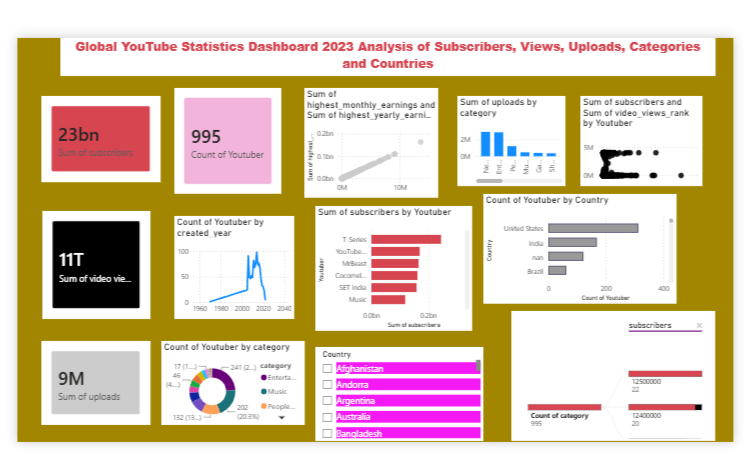

The page's visual inventory and layout, read from the dashboard file:
{"tool":"powerbi","page":{"name":"Page 1","canvas":[1280,720],"ordinal":0},"visuals":[{"type":"cardVisual","fields":{"Data":["Sum(Global YouTube Statistics.subscribers)"]},"box":[42.9,103.6,212.5,153.6],"z":0},{"type":"cardVisual","fields":{"Data":["Sum(Global YouTube Statistics.video views)"]},"box":[44.6,308.9,192.9,192.9],"z":1000},{"type":"cardVisual","fields":{"Data":["Sum(Global YouTube Statistics.uploads)"]},"box":[42.9,541.1,194.6,150],"z":2000},{"type":"cardVisual","fields":{"Data":["Count(Global YouTube Statistics.Youtuber)"]},"box":[280.4,89.3,191.1,189.3],"z":3000},{"type":"clusteredBarChart","fields":{"Category":["Global YouTube Statistics.Youtuber"],"Y":["Sum(Global YouTube Statistics.subscribers)"]},"box":[532.1,300,280.4,223.2],"z":4000},{"type":"decompositionTreeVisual","fields":{"Analyze":["CountNonNull(Global YouTube Statistics.category)"],"ExplainBy":["Global YouTube Statistics.subscribers"]},"box":[882.1,487.5,364.3,232.1],"z":5000},{"type":"clusteredBarChart","fields":{"Y":["CountNonNull(Global YouTube Statistics.Youtuber)"],"Category":["Global YouTube Statistics.Country"]},"box":[832.1,278.6,344.6,196.4],"z":6000},{"type":"donutChart","fields":{"Category":["Global YouTube Statistics.category"],"Y":["CountNonNull(Global YouTube Statistics.Youtuber)"]},"box":[257.1,541.1,256,150],"z":7000},{"type":"scatterChart","fields":{"X":["Sum(Global YouTube Statistics.subscribers)"],"Y":["Sum(Global YouTube Statistics.video_views_rank)"],"Category":["Global YouTube Statistics.Youtuber"]},"box":[1005.4,103.6,217.9,160.7],"z":8000},{"type":"scatterChart","fields":{"X":["Sum(Global YouTube Statistics.highest_monthly_earnings)"],"Y":["Sum(Global YouTube Statistics.highest_yearly_earnings)"],"Category":["Global YouTube Statistics.Youtuber"]},"box":[512.5,89.3,239.3,196.4],"z":9000},{"type":"clusteredColumnChart","fields":{"Y":["Sum(Global YouTube Statistics.uploads)"],"Category":["Global YouTube Statistics.category"]},"box":[785.7,103.6,192.9,160.7],"z":10000},{"type":"lineChart","fields":{"Category":["Global YouTube Statistics.created_year"],"Y":["CountNonNull(Global YouTube Statistics.Youtuber)"]},"box":[280.4,317.9,214.3,183.9],"z":11000},{"type":"slicer","fields":{"Values":["Global YouTube Statistics.Country"]},"box":[532.1,551.8,300,167.9],"z":12000},{"type":"textbox","title":"Global YouTube Statistics Dashboard 2023 Analysis of Subscribers, Views, Uploads, Categories and Countries","box":[76.8,0,1169.6,67.9],"z":13000}]}

Visuals, with their boxes in screenshot pixels (x1, y1, x2, y2):
cardVisual - Sum(Global YouTube Statistics.subscribers): 43, 96, 161, 181
cardVisual - Sum(Global YouTube Statistics.video views): 44, 210, 151, 316
cardVisual - Sum(Global YouTube Statistics.uploads): 43, 338, 151, 421
cardVisual - Count(Global YouTube Statistics.Youtuber): 174, 88, 280, 193
clusteredBarChart - Global YouTube Statistics.Youtuber x Sum(Global YouTube Statistics.subscribers): 314, 205, 469, 328
decompositionTreeVisual - CountNonNull(Global YouTube Statistics.category) x Global YouTube Statistics.subscribers: 507, 308, 709, 437
clusteredBarChart - CountNonNull(Global YouTube Statistics.Youtuber) x Global YouTube Statistics.Country: 479, 193, 670, 301
donutChart - Global YouTube Statistics.category x CountNonNull(Global YouTube Statistics.Youtuber): 162, 338, 303, 421
scatterChart - Sum(Global YouTube Statistics.subscribers) x Sum(Global YouTube Statistics.video_views_rank): 575, 96, 696, 185
scatterChart - Sum(Global YouTube Statistics.highest_monthly_earnings) x Sum(Global YouTube Statistics.highest_yearly_earnings): 303, 88, 435, 197
clusteredColumnChart - Sum(Global YouTube Statistics.uploads) x Global YouTube Statistics.category: 454, 96, 560, 185
lineChart - Global YouTube Statistics.created_year x CountNonNull(Global YouTube Statistics.Youtuber): 174, 215, 293, 316
slicer - Global YouTube Statistics.Country: 314, 344, 479, 437
"Global YouTube Statistics Dashboard 2023 Analysis of Subscribers, Views, Uploads, Categories and Countries" textbox: 62, 39, 709, 76
